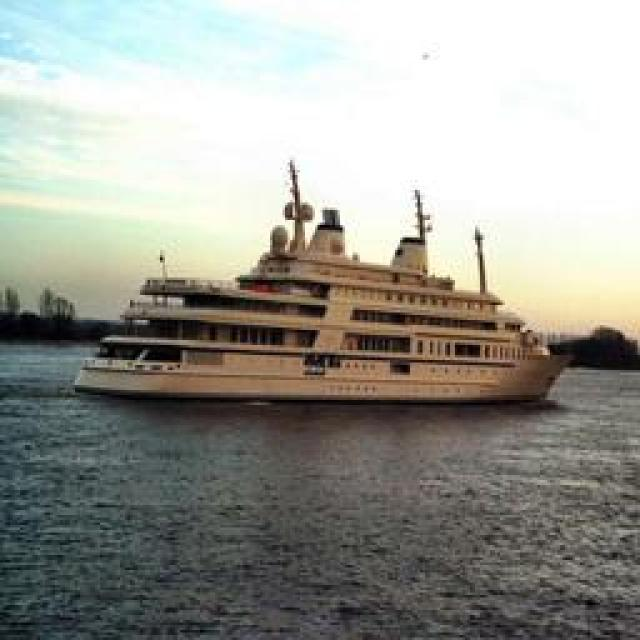CIV_Ship: (71, 168, 569, 410)
